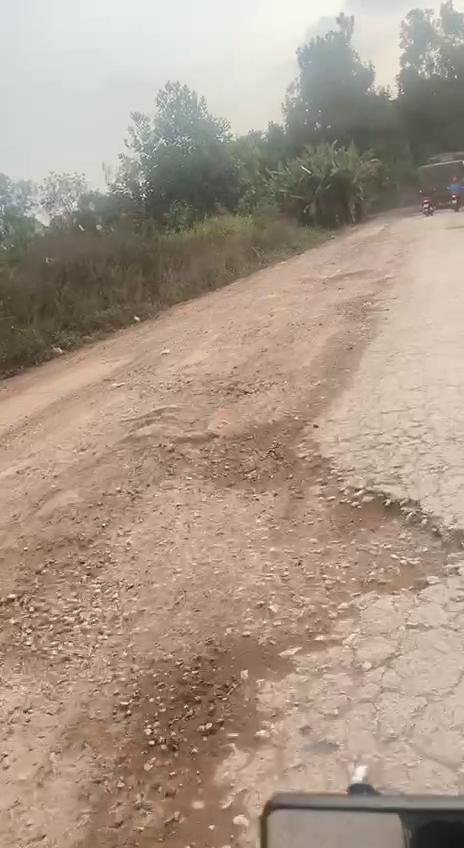pothole: (236, 444, 464, 622)
